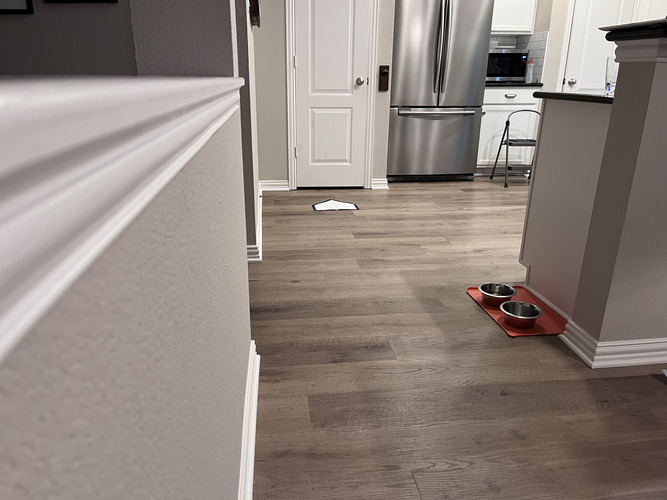homeplate: (310, 197, 359, 212)
